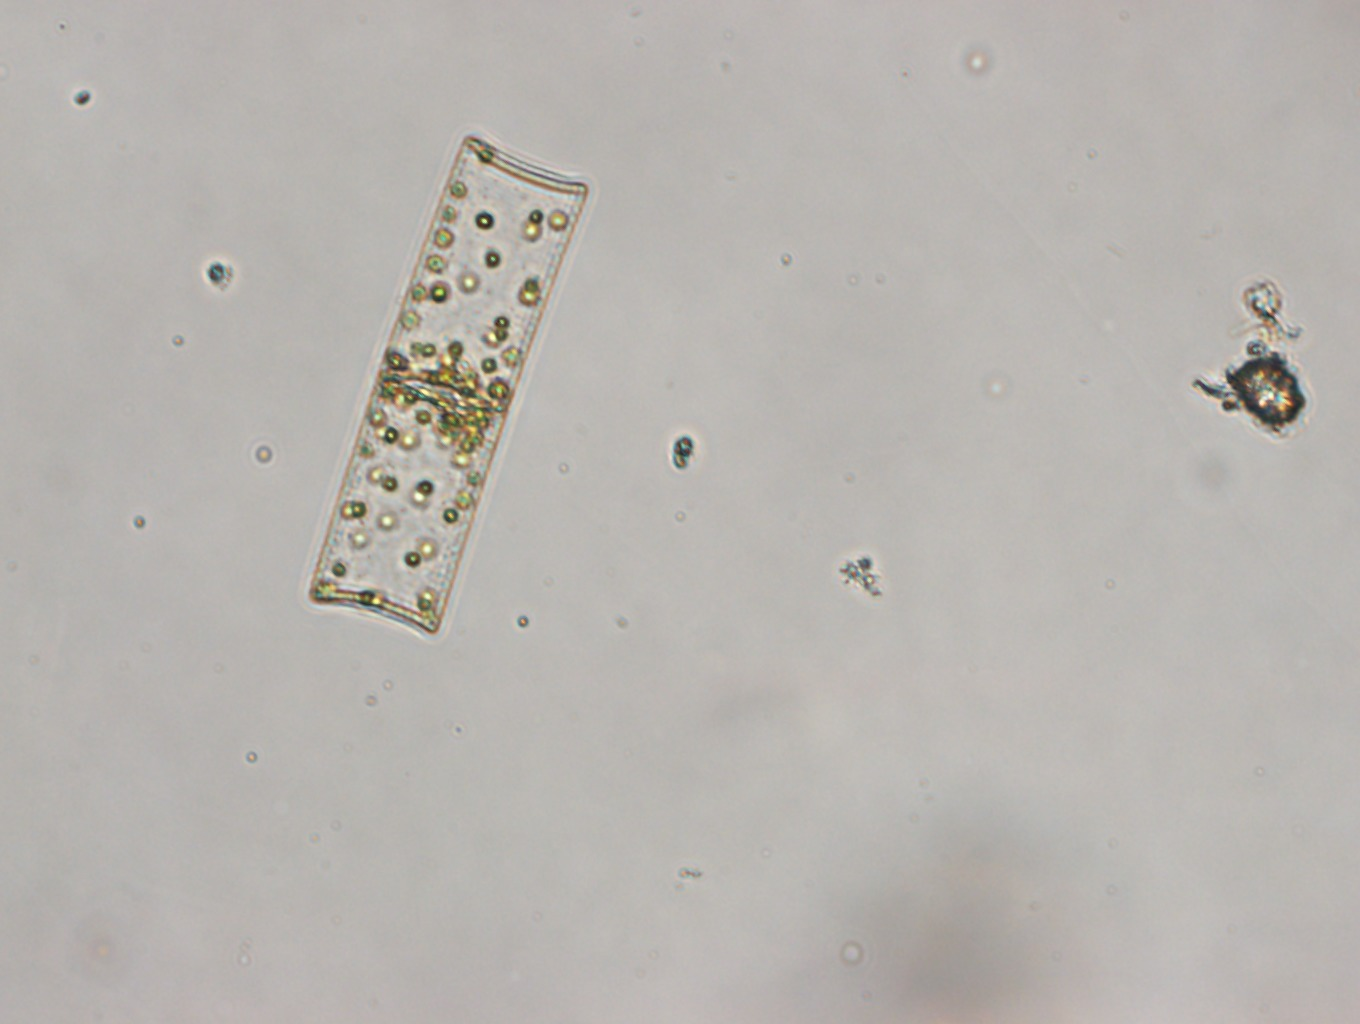guinardia flaccida: (307, 131, 589, 639)
